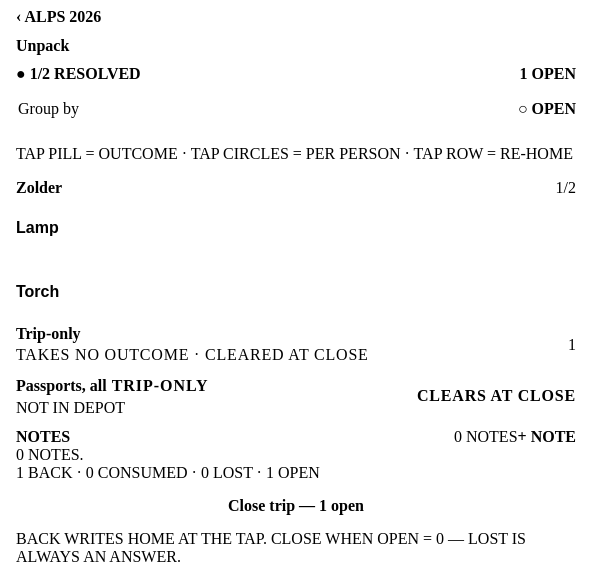
Test case: the ○ OPEN filter (F4) › hides a trip-only row too, though its own outcome reads null
Expected: the text "Trip-only" is shown, 16,325 -> 81,342
Click the button with test id "unpack-open-filter" at (547, 109), box 518,89 -> 576,129
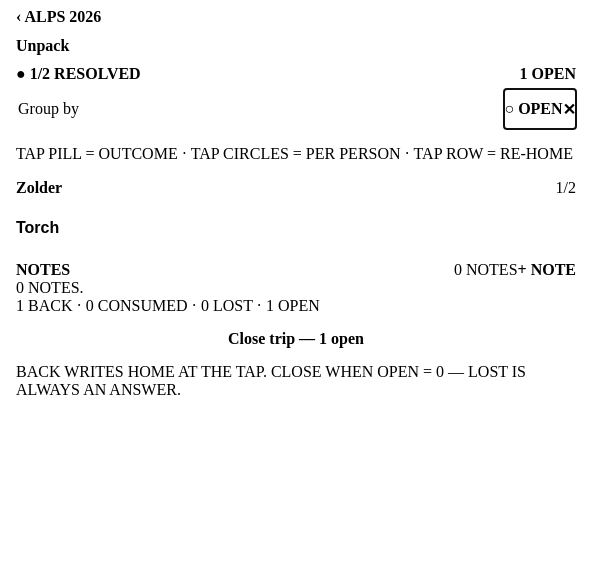
Expected: the text "Zolder" is shown, 16,179 -> 62,197
Result: the text "Trip-only" is gone
